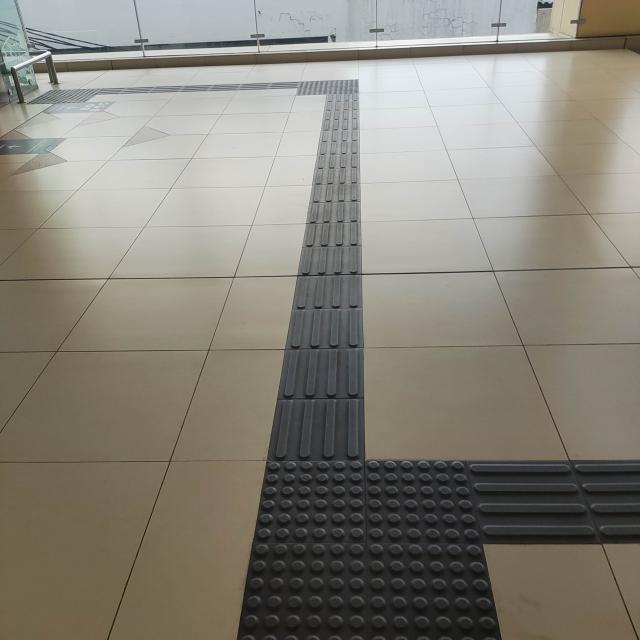kiri: (238, 66, 382, 110)
